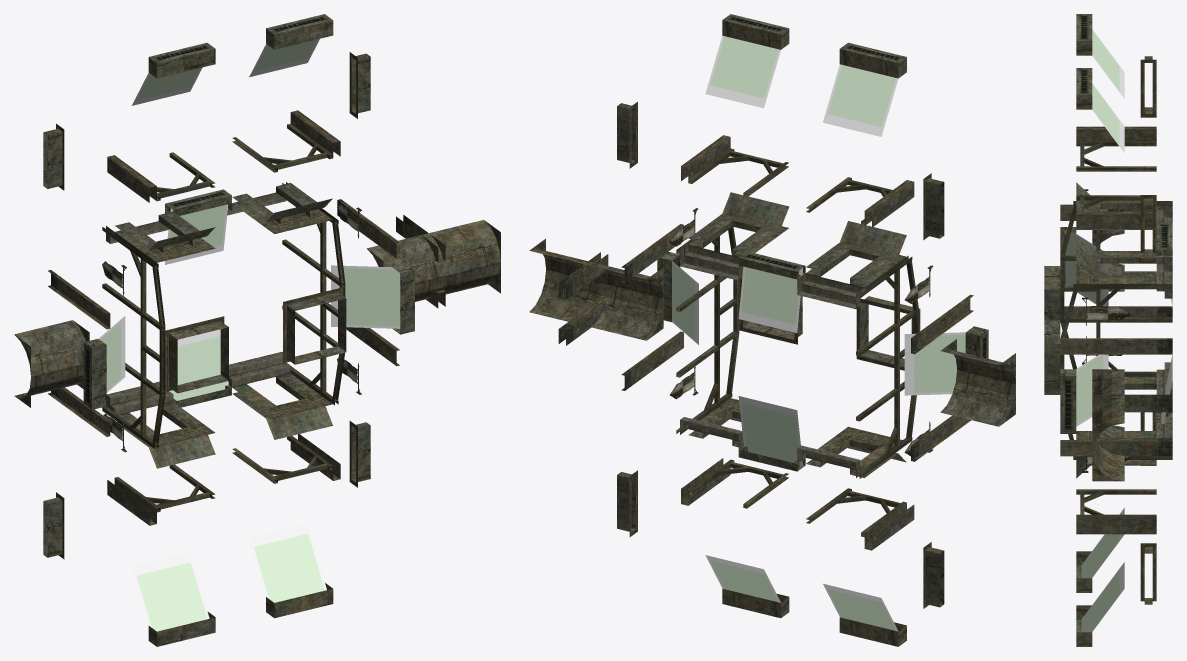
The model's file is tdr_d_room_a_flipped.obj.
3 renders of one model, left to right at view 1: azimuth 30°, elevation 25°; view 2: azimuth 150°, elevation 25°; view 3: azimuth 270°, elevation 25°, orthographic. The views are drawn at different scales.
Parts seen in each view (by area): view 1: Plane.001, Arches_Cylinder.001, Doors_Cube.123, Plane.002_Plane.004, Cube.036_Cube.125, Cube.040_Cube.049, Pillars_(Wall)_Cube.001, Pillars_(Underarch).001_Cube.062, Stairs_Cube.011, Cube.034_Cube.046, Cube.009_Cube.004, Cube.010_Cube.038 (+13 smaller); view 2: Plane.001, Arches_Cylinder.001, Doors_Cube.123, Stairs_Cube.011, Pillars_(Wall)_Cube.001, Cube.036_Cube.125, Pillars_(Underarch).001_Cube.062, Plane.002_Plane.004, Cube.040_Cube.049, Cube.034_Cube.046, Pillars_(Underarch)_Cube.006, Window.002_Cube.054 (+12 smaller); view 3: Plane.001, Pillars_(Underarch).001_Cube.062, Pillars_(Wall)_Cube.001, Arches_Cylinder.001, Doors_Cube.123, Cube.036_Cube.125, Pillars_(Underarch)_Cube.006, Cube.040_Cube.049, Stairs_Cube.011, Cube.034_Cube.046, Cube.010_Cube.038, Plane.002_Plane.004 (+12 smaller).
Boxes of the visible parts, left/top/right/bottom form: Plane.001: left=99, top=39, right=400, bottom=631; Arches_Cylinder.001: left=14, top=220, right=500, bottom=407; Doors_Cube.123: left=115, top=183, right=324, bottom=446; Plane.002_Plane.004: left=148, top=198, right=332, bottom=468; Cube.036_Cube.125: left=115, top=123, right=332, bottom=512; Cube.040_Cube.049: left=102, top=227, right=165, bottom=448; Pillars_(Wall)_Cube.001: left=48, top=199, right=399, bottom=436; Pillars_(Underarch).001_Cube.062: left=107, top=110, right=340, bottom=525; Stairs_Cube.011: left=106, top=183, right=290, bottom=415; Cube.034_Cube.046: left=282, top=182, right=345, bottom=405; Cube.009_Cube.004: left=165, top=316, right=228, bottom=393; Cube.010_Cube.038: left=283, top=287, right=346, bottom=364; Plane.001: left=672, top=35, right=965, bottom=631; Arches_Cylinder.001: left=529, top=238, right=1015, bottom=426; Doors_Cube.123: left=688, top=214, right=897, bottom=477; Stairs_Cube.011: left=680, top=245, right=864, bottom=477; Pillars_(Wall)_Cube.001: left=621, top=224, right=973, bottom=461; Cube.036_Cube.125: left=688, top=148, right=906, bottom=537; Pillars_(Underarch).001_Cube.062: left=681, top=135, right=914, bottom=550; Plane.002_Plane.004: left=722, top=192, right=906, bottom=462; Cube.040_Cube.049: left=856, top=255, right=918, bottom=478; Cube.034_Cube.046: left=676, top=226, right=739, bottom=434; Pillars_(Underarch)_Cube.006: left=558, top=252, right=608, bottom=345; Window.002_Cube.054: left=722, top=14, right=789, bottom=49; Plane.001: left=1065, top=29, right=1172, bottom=632; Pillars_(Underarch).001_Cube.062: left=1076, top=126, right=1156, bottom=534; Pillars_(Wall)_Cube.001: left=1060, top=204, right=1172, bottom=456; Arches_Cylinder.001: left=1092, top=230, right=1124, bottom=481; Doors_Cube.123: left=1092, top=200, right=1156, bottom=463; Cube.036_Cube.125: left=1076, top=141, right=1156, bottom=516; Pillars_(Underarch)_Cube.006: left=1092, top=394, right=1172, bottom=455; Cube.040_Cube.049: left=1060, top=201, right=1172, bottom=376; Stairs_Cube.011: left=1156, top=206, right=1172, bottom=437; Cube.034_Cube.046: left=1060, top=284, right=1172, bottom=459; Cube.010_Cube.038: left=1044, top=320, right=1060, bottom=394; Plane.002_Plane.004: left=1076, top=182, right=1092, bottom=478.
Size of the model in its own units: 8192 by 9728 by 2048.
Materials: 14 (14 with a texture image).
